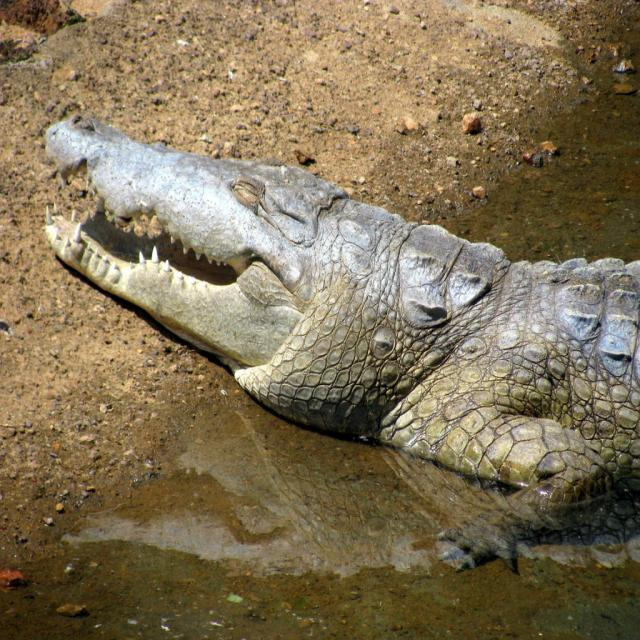crocodile: (40, 109, 639, 516)
